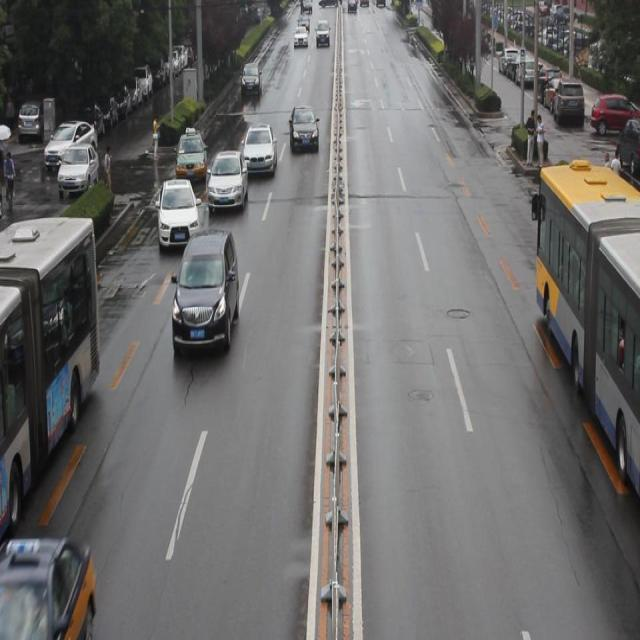car: (1, 536, 96, 630), (172, 233, 240, 357), (158, 178, 199, 254), (207, 148, 248, 216), (242, 124, 276, 176), (178, 127, 205, 188), (287, 106, 319, 156)
van: (530, 174, 640, 503), (1, 218, 102, 532)
